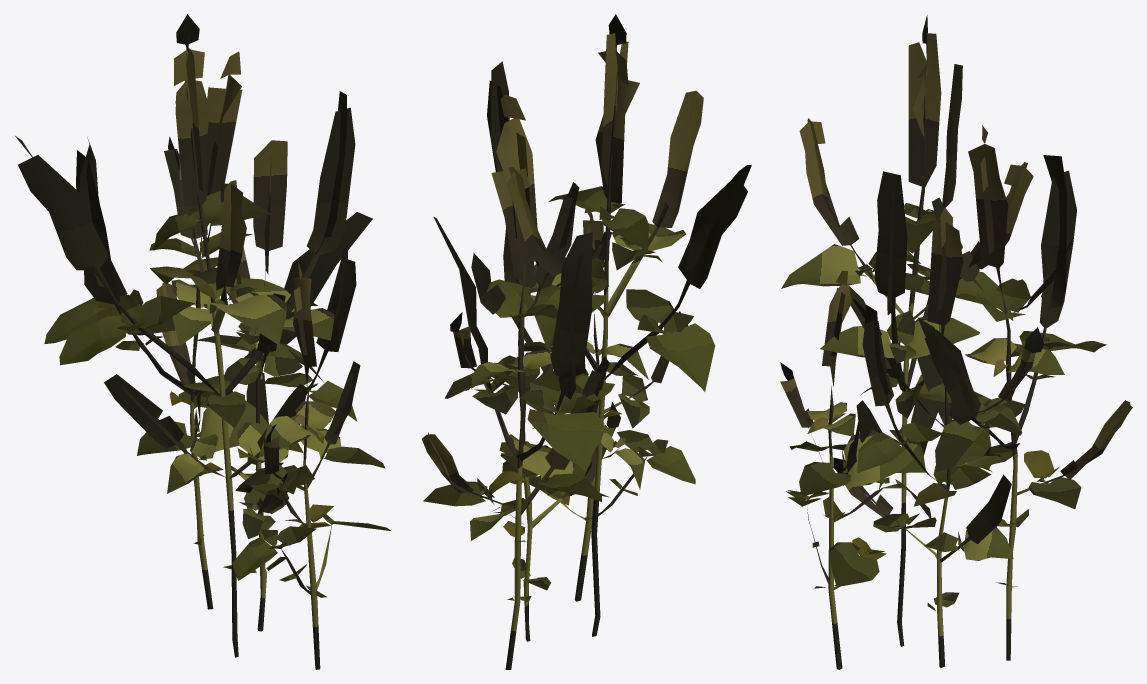
Rendered from ph_shrub_6.glb.
The picture shows the model from 3 angles, left to right: view 1: azimuth 30°, elevation 25°; view 2: azimuth 150°, elevation 25°; view 3: azimuth 270°, elevation 25°; orthographic projection. The views are drawn at different scales.
Parts seen in each view (by area): view 1: ph_shrub_6_lod1; view 2: ph_shrub_6_lod1; view 3: ph_shrub_6_lod1.
Part boxes in pixels (<box>): ph_shrub_6_lod1: <box>15,14,390,669</box>; ph_shrub_6_lod1: <box>422,14,751,669</box>; ph_shrub_6_lod1: <box>780,15,1132,669</box>.
Bounding box in the file's own units: 0.2248 × 0.401 × 0.2084.
Materials: 1 (1 with a texture image).
